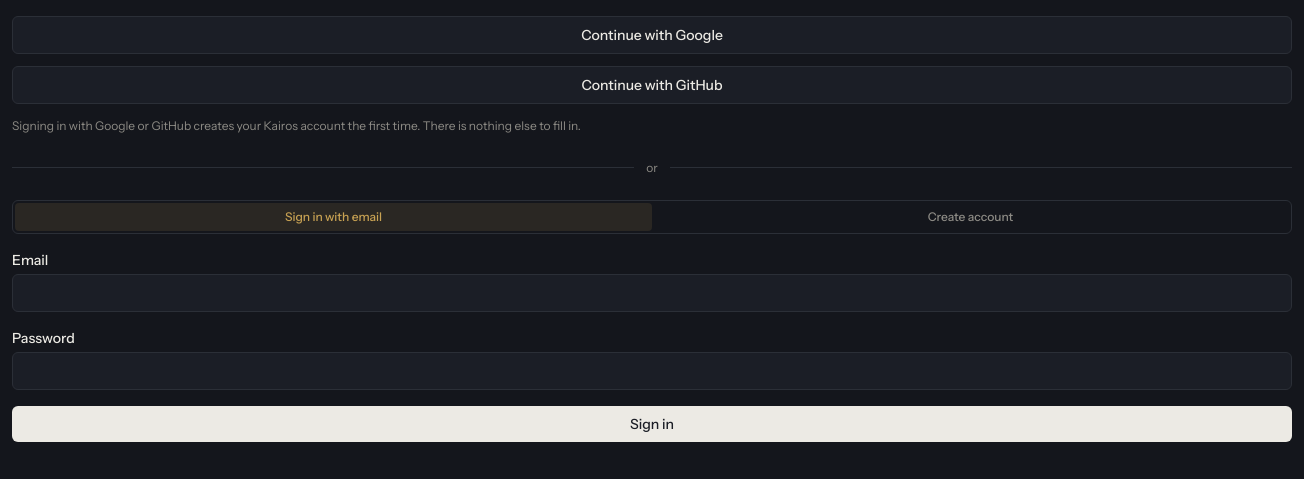
Test: creating an account › is reachable without leaving the page
Click the tab "Create account": (970, 216) [652,202,1289,230]
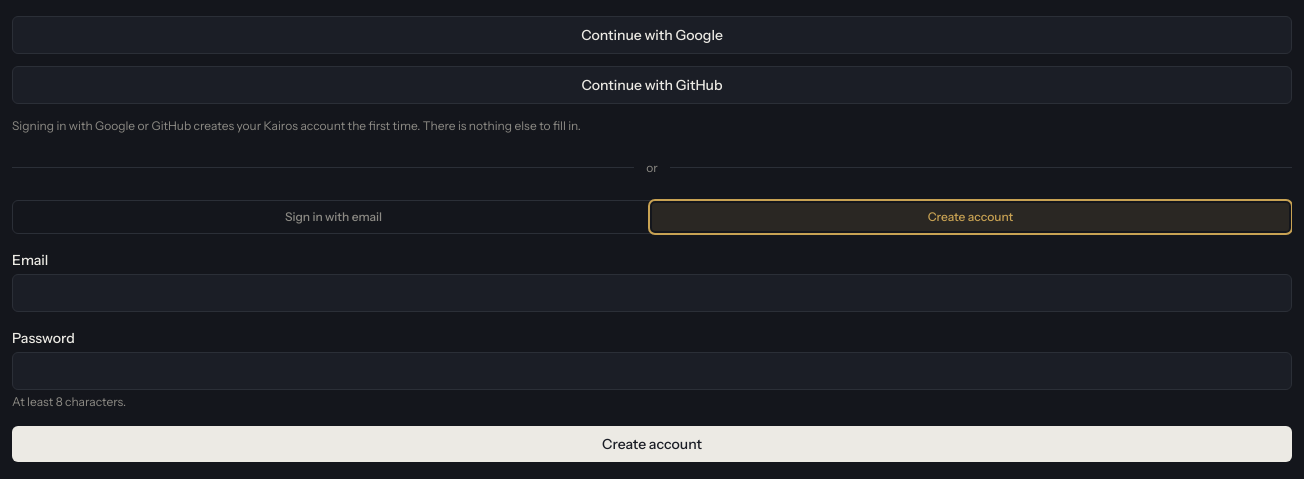
Expected: the button "Create account" is shown, [12,426,1292,462]
